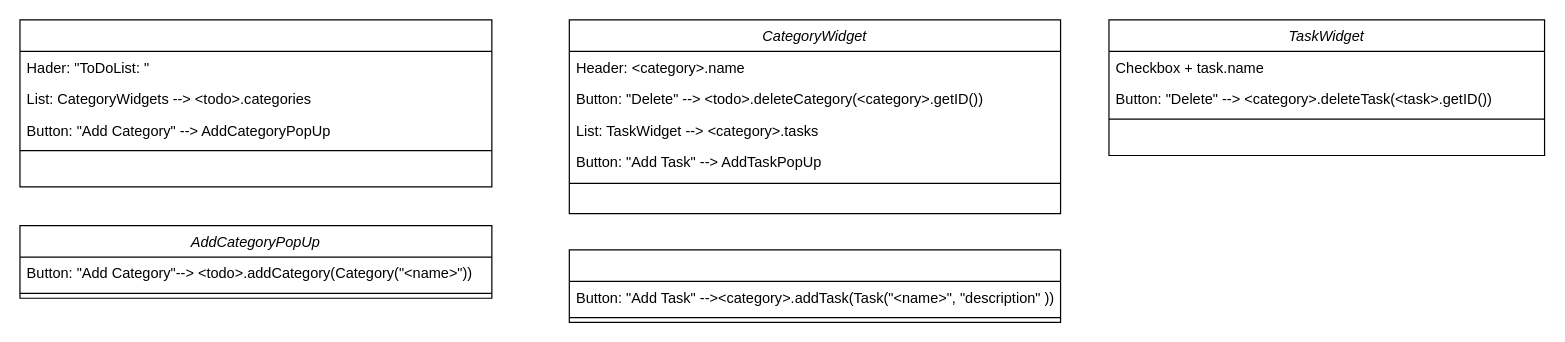
The diagram is 1565 pixels wide and 342 high, and some of its shapes have lost their labels. The box of each missing label's shape, as (x1, y1, x2, y2) in pixels:
AddTaskPopUp: (568, 249, 1061, 322)
ToDoListWindow: (19, 19, 492, 187)
